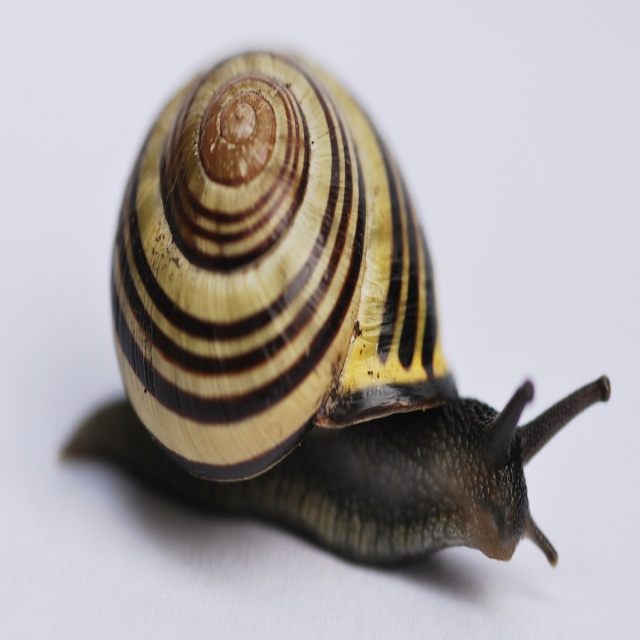Snail: (111, 50, 611, 584)
